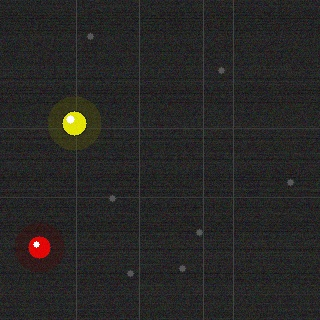red_fault: (26, 234, 52, 260)
yellow_warning: (60, 109, 88, 137)
